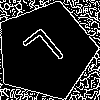L: (21, 26, 73, 79)
